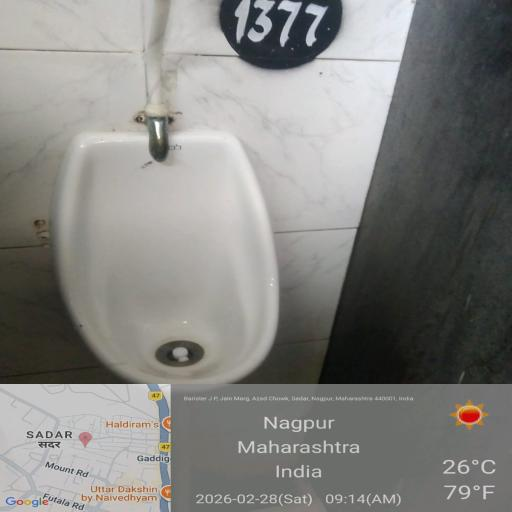clean_floor: (304, 23, 512, 343), (12, 10, 360, 131)
clean_urinal: (46, 141, 300, 369)
